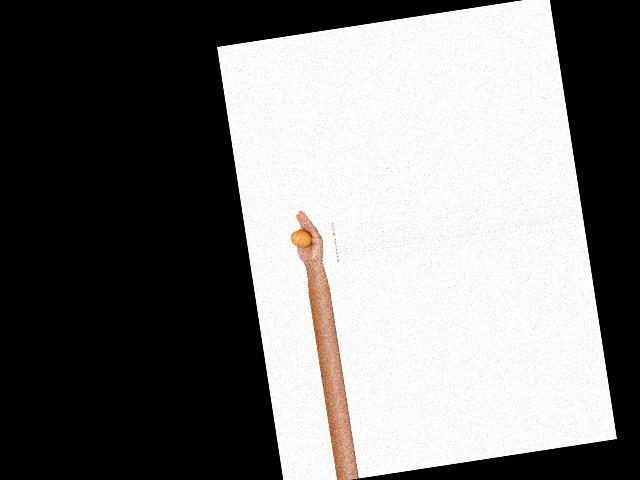egg: (289, 228, 313, 249)
